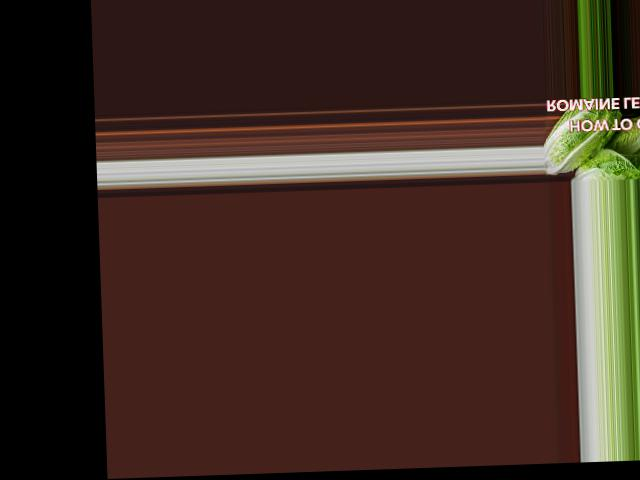lettuce: (599, 102, 640, 173)
